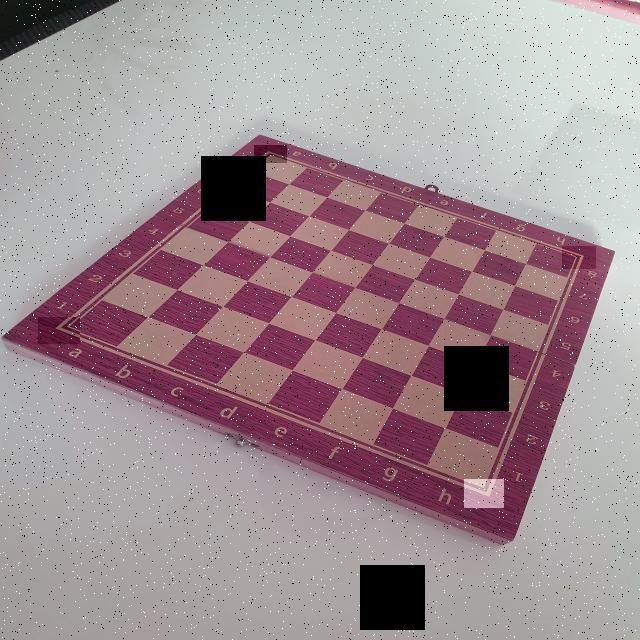chess-table-corners: (38, 318, 80, 346), (464, 479, 504, 508), (562, 246, 596, 269), (254, 145, 287, 163)
